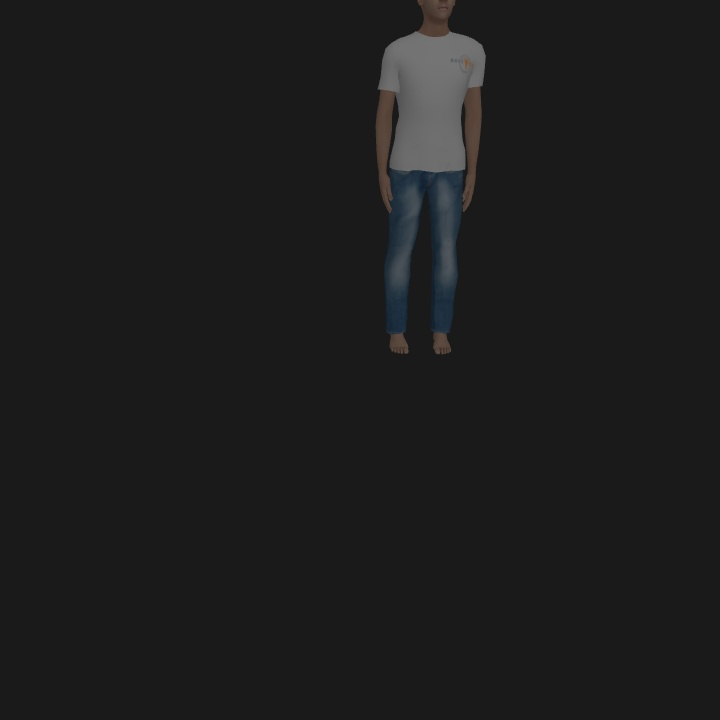victim: (376, 1, 485, 353)
